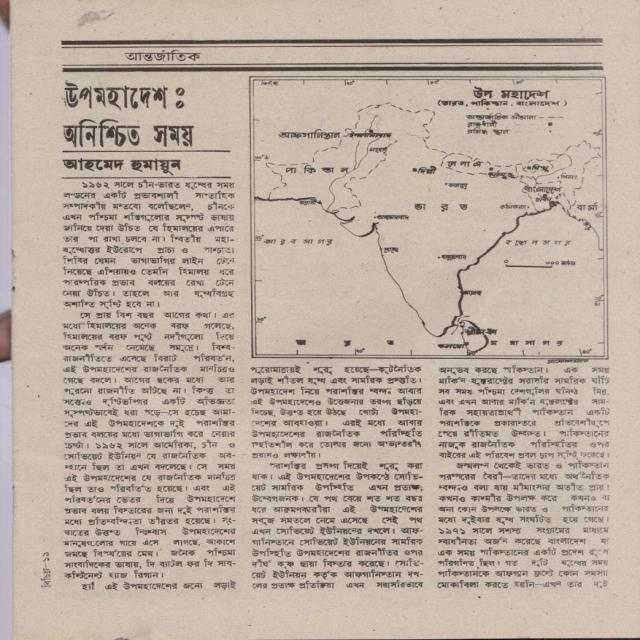image: (252, 77, 606, 358)
page number: (41, 549, 51, 563)
paragraph: (62, 311, 237, 579), (250, 461, 425, 590), (61, 181, 236, 309), (437, 462, 611, 589), (249, 365, 424, 460), (439, 366, 612, 462), (81, 580, 239, 592)
text: (61, 157, 185, 176), (40, 568, 53, 589), (547, 358, 589, 364)
title: (63, 79, 196, 148), (121, 50, 204, 62)
